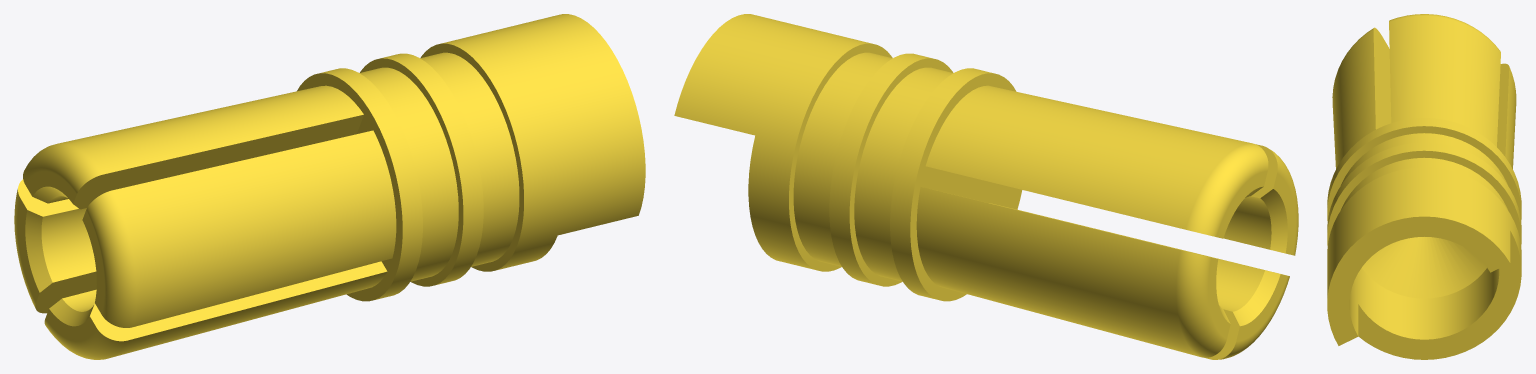
The model's file is REV_21_1652_P12__REV_21_1652_P12.gltf.
3 renders of one model, left to right at view 1: azimuth 30°, elevation 25°; view 2: azimuth 150°, elevation 25°; view 3: azimuth 270°, elevation 25°, orthographic. The views are drawn at different scales.
Visible parts, largest first — view 1: mesh84870, mesh84853, mesh84863, mesh84855, mesh84859, mesh84866, mesh84861, mesh84857, mesh84871, mesh84886, mesh84884, mesh84883 (+14 smaller); view 2: mesh84863, mesh84877, mesh84853, mesh84859, mesh84855, mesh84861, mesh84857, mesh84862, mesh84864, mesh84878, mesh84890, mesh84858 (+12 smaller); view 3: mesh84863, mesh84853, mesh84848, mesh84849, mesh84847, mesh84852, mesh84870, mesh84860, mesh84856, mesh84861, mesh84857, mesh84873 (+5 smaller).
Boxes of the visible parts, x1=… form: mesh84870: x1=112, y1=130, x2=396, y2=326; mesh84853: x1=440, y1=14, x2=645, y2=269; mesh84863: x1=58, y1=85, x2=363, y2=174; mesh84855: x1=420, y1=52, x2=519, y2=266; mesh84859: x1=359, y1=67, x2=458, y2=281; mesh84866: x1=73, y1=114, x2=363, y2=209; mesh84861: x1=320, y1=68, x2=422, y2=299; mesh84857: x1=381, y1=53, x2=483, y2=284; mesh84871: x1=86, y1=190, x2=136, y2=327; mesh84886: x1=90, y1=261, x2=387, y2=341; mesh84884: x1=112, y1=271, x2=386, y2=357; mesh84883: x1=41, y1=208, x2=96, y2=282; mesh84863: x1=925, y1=85, x2=1251, y2=229; mesh84877: x1=916, y1=187, x2=1199, y2=356; mesh84853: x1=674, y1=14, x2=871, y2=270; mesh84859: x1=854, y1=67, x2=953, y2=281; mesh84855: x1=793, y1=52, x2=892, y2=266; mesh84861: x1=890, y1=68, x2=992, y2=299; mesh84857: x1=829, y1=53, x2=931, y2=284; mesh84862: x1=910, y1=73, x2=1022, y2=301; mesh84864: x1=1185, y1=143, x2=1268, y2=236; mesh84878: x1=1176, y1=250, x2=1226, y2=357; mesh84890: x1=989, y1=203, x2=1264, y2=311; mesh84858: x1=849, y1=58, x2=953, y2=286; mesh84863: x1=1389, y1=16, x2=1500, y2=146; mesh84853: x1=1327, y1=167, x2=1521, y2=297; mesh84848: x1=1349, y1=268, x2=1499, y2=339; mesh84849: x1=1327, y1=216, x2=1509, y2=345; mesh84847: x1=1362, y1=237, x2=1486, y2=298; mesh84852: x1=1358, y1=231, x2=1521, y2=359; mesh84870: x1=1332, y1=30, x2=1375, y2=168; mesh84860: x1=1327, y1=126, x2=1521, y2=221; mesh84856: x1=1327, y1=150, x2=1521, y2=246; mesh84861: x1=1327, y1=118, x2=1521, y2=208; mesh84857: x1=1327, y1=142, x2=1521, y2=232; mesh84873: x1=1373, y1=27, x2=1391, y2=129.
Bounding box in the file's own units: 0.013 × 0.005 × 0.005.
